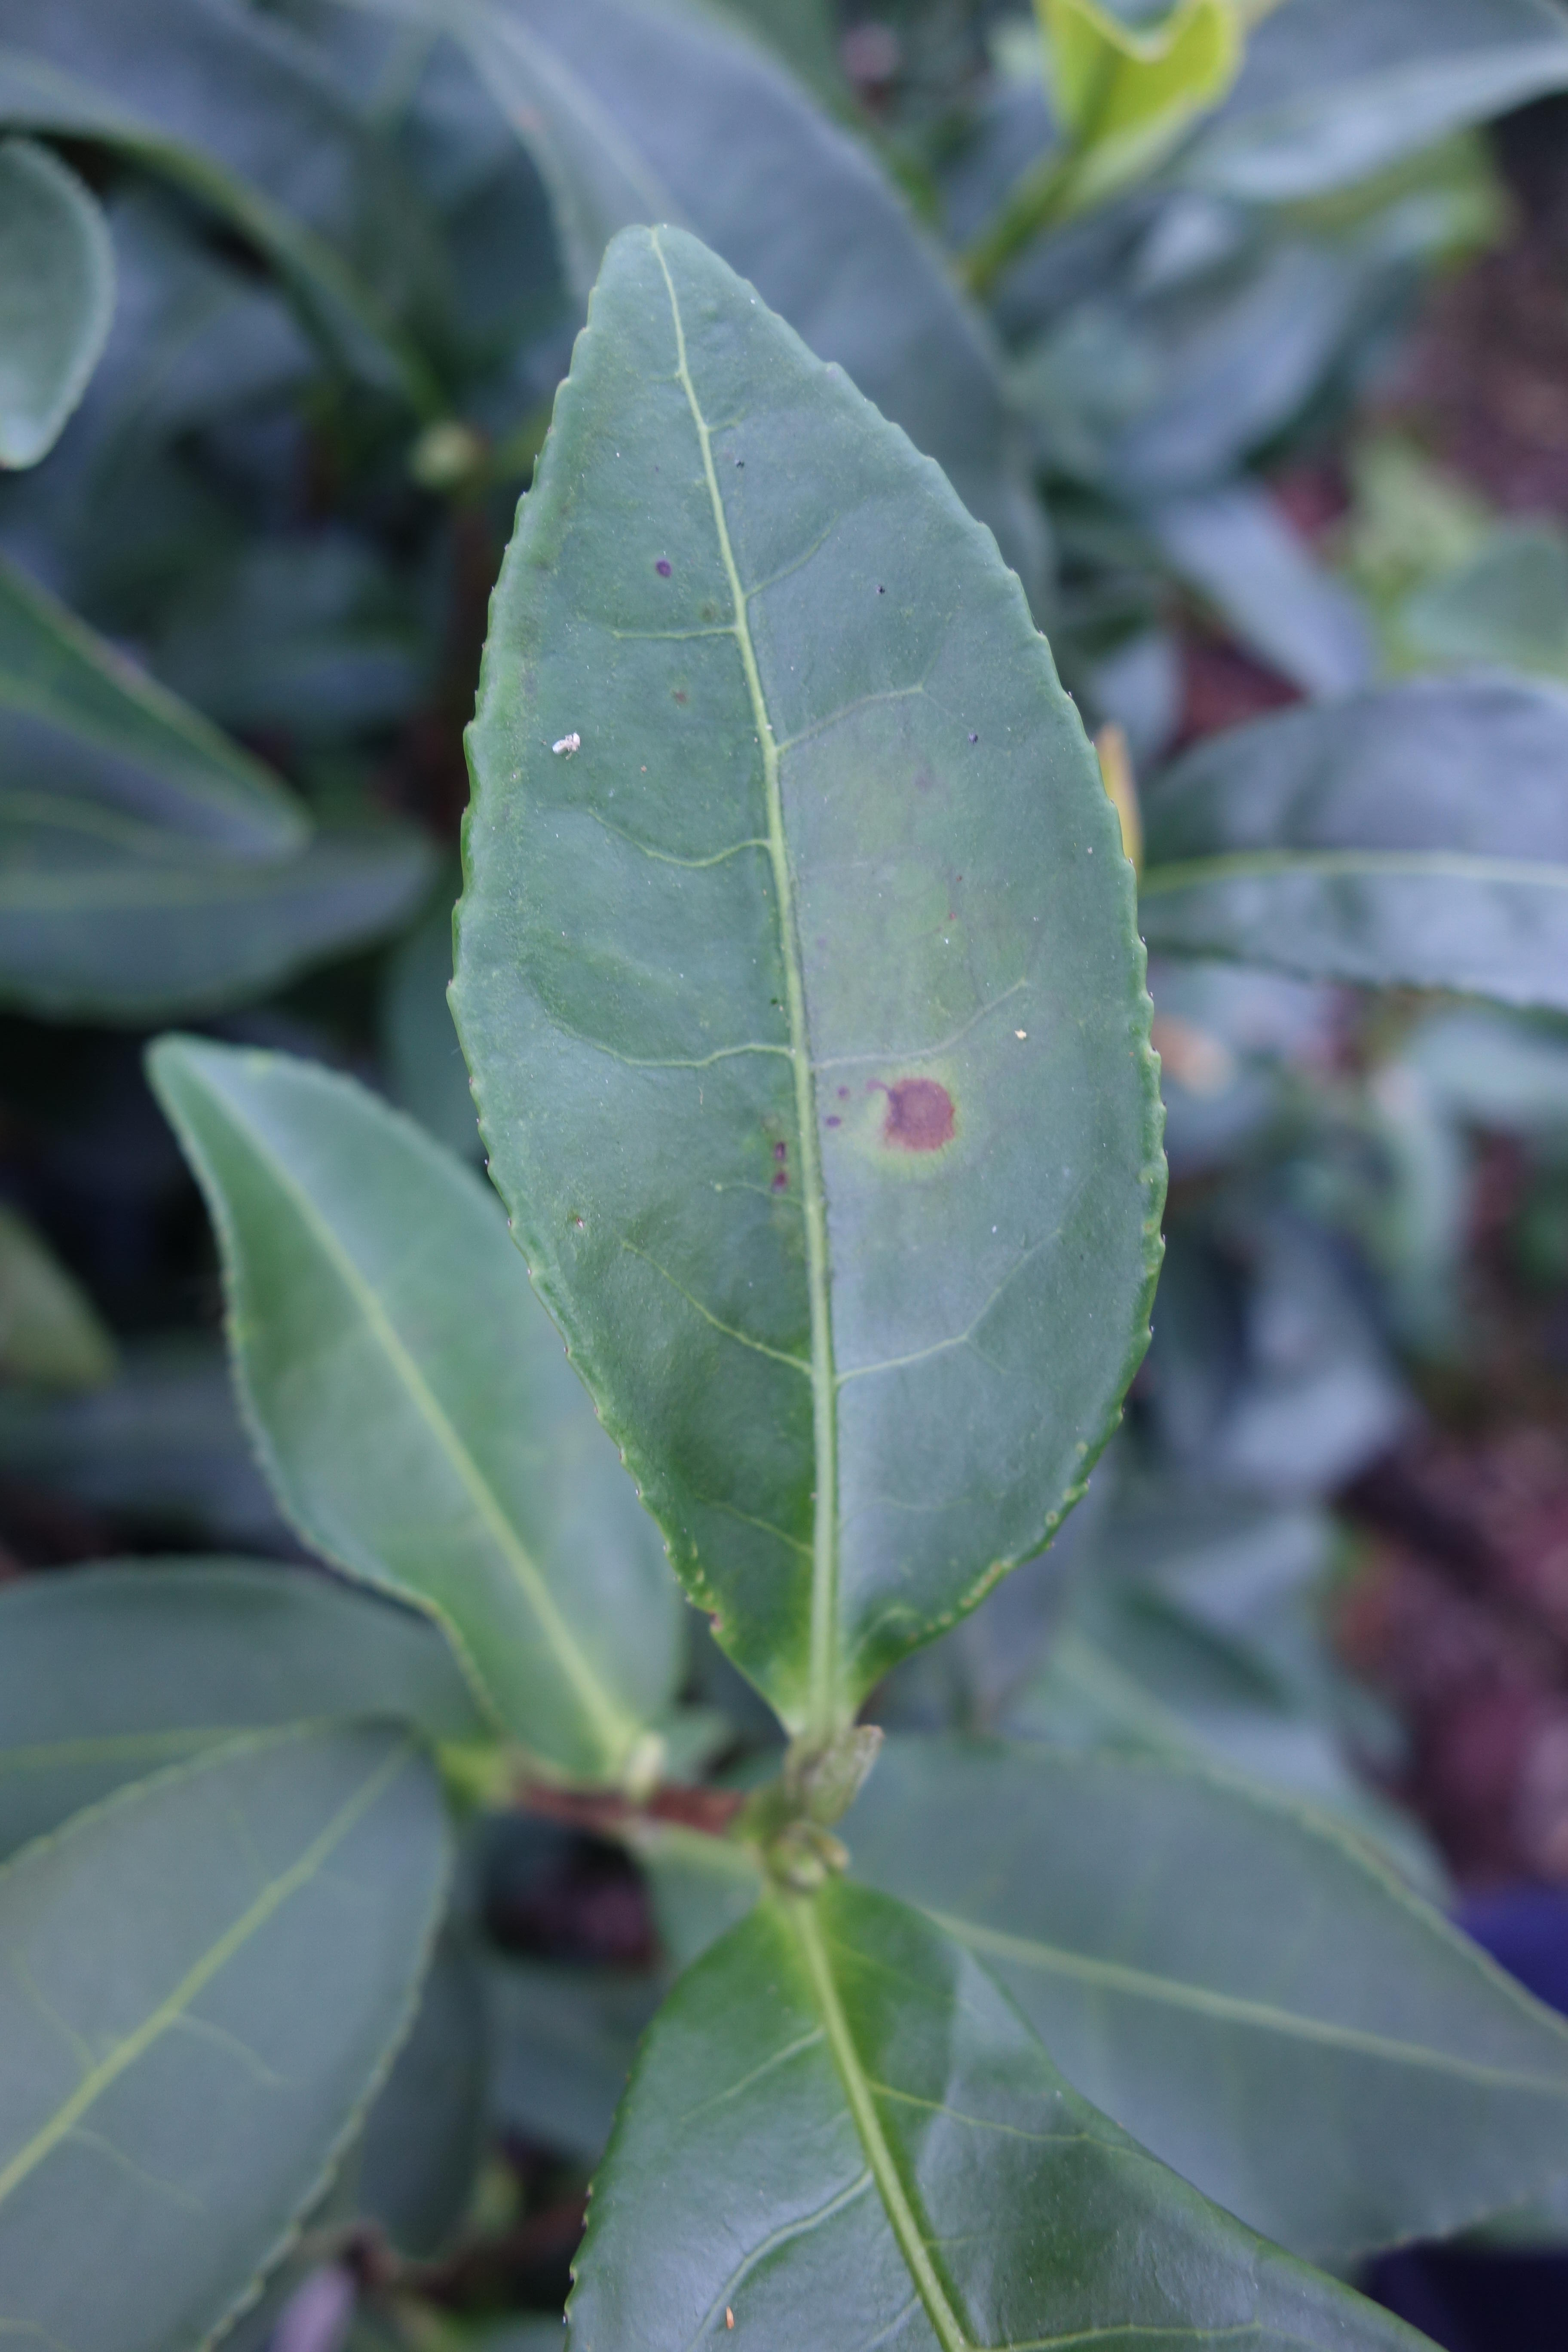tanju_low: (450, 219, 1172, 1760)
